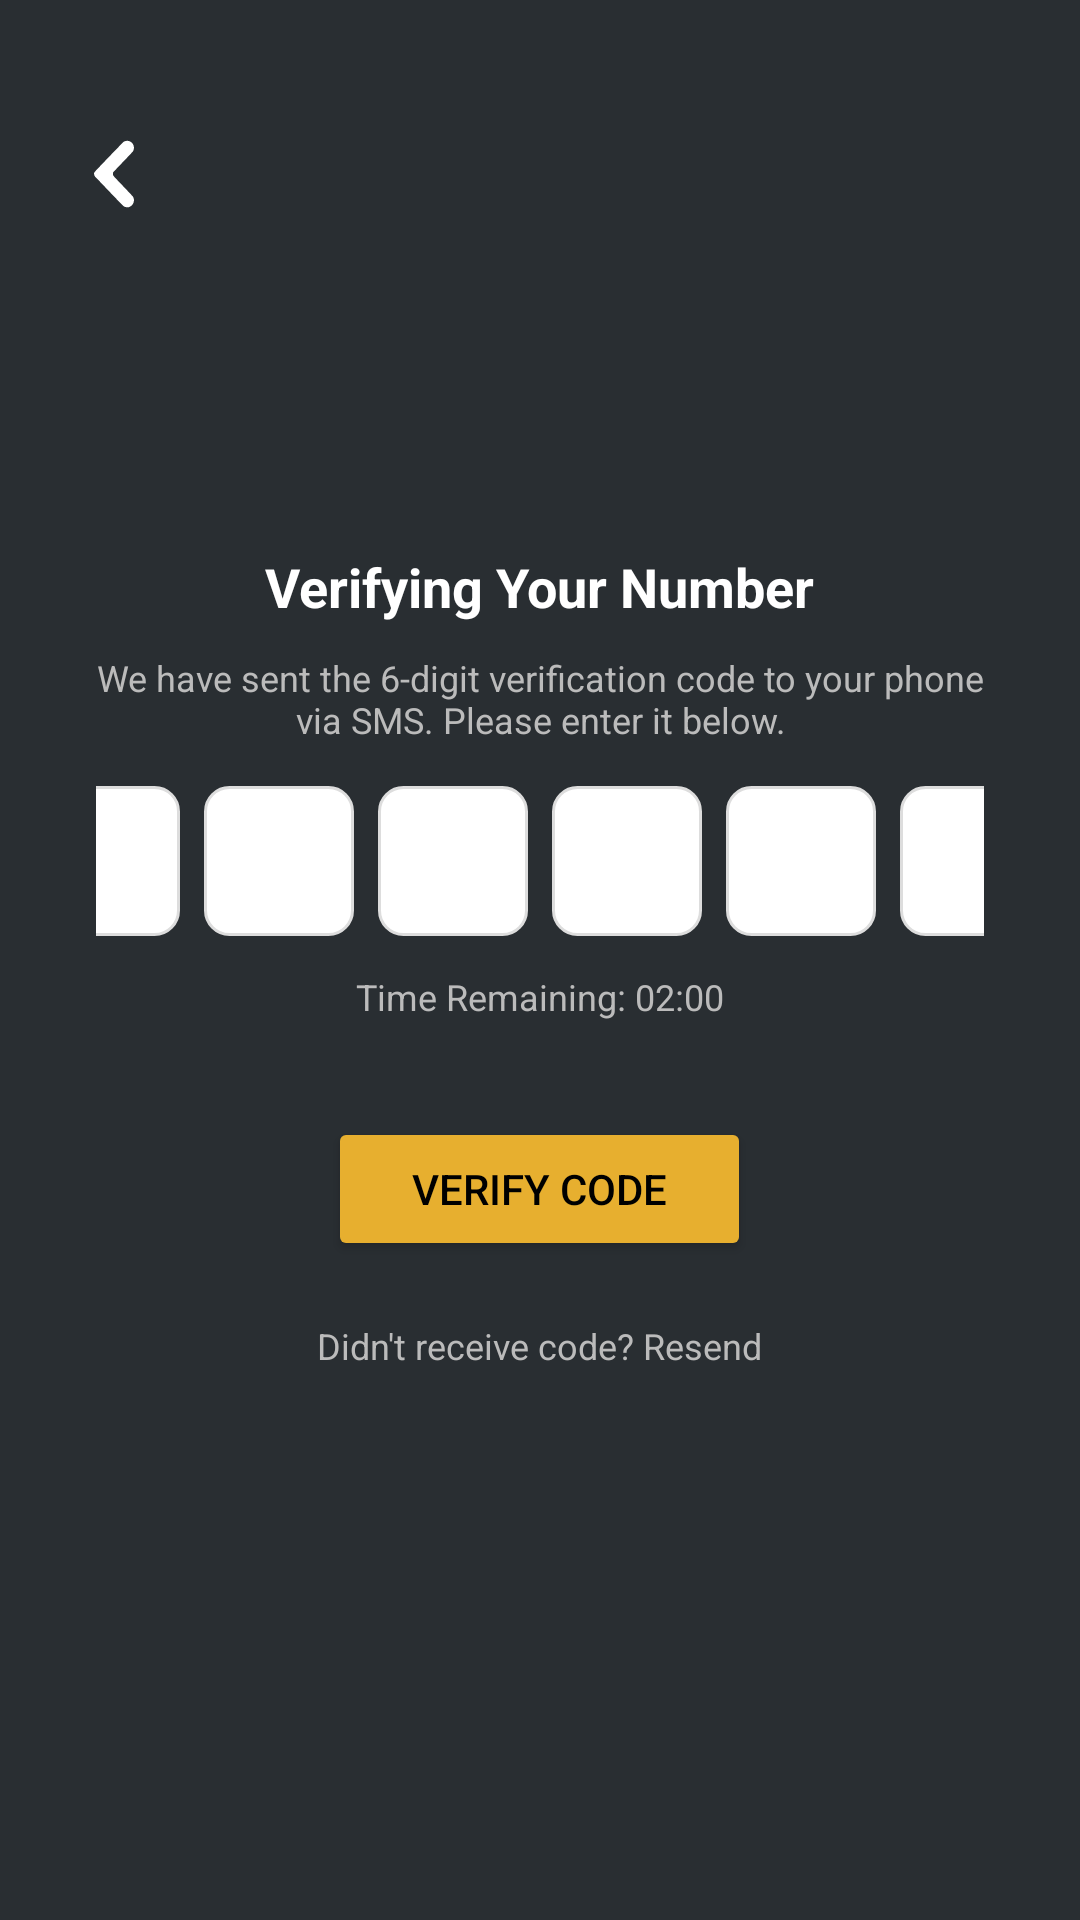

Icon click points for this 1080px×1920px phone screenshot, format [x,y]:
Back: [114,174]
